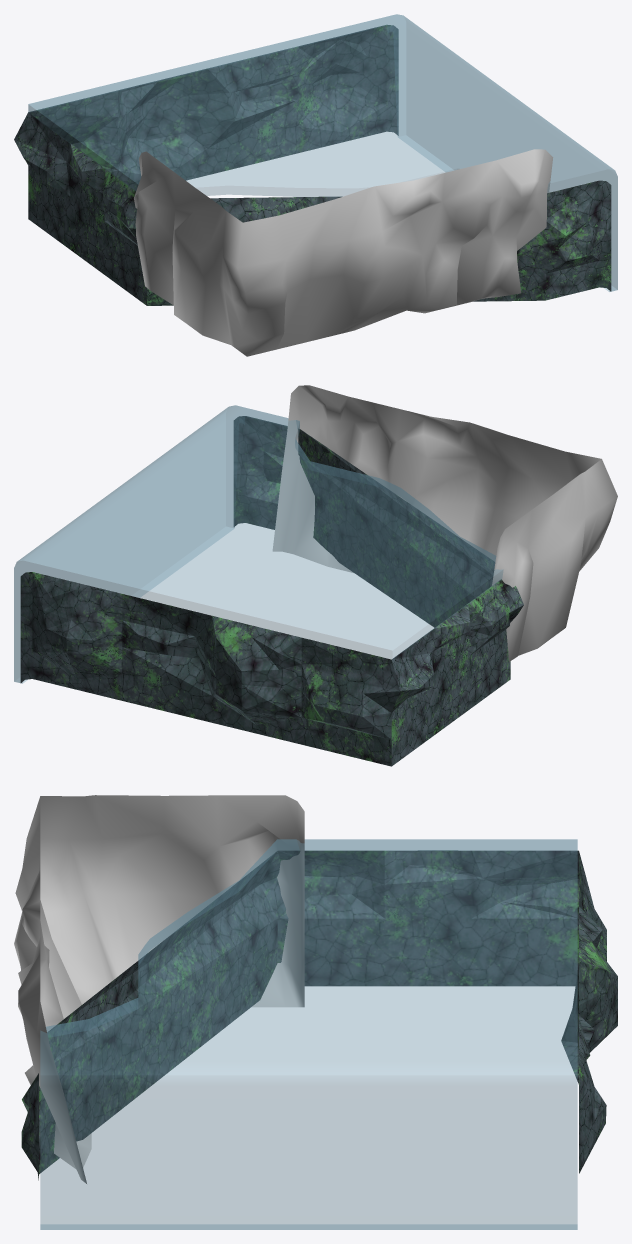
Rendered from stage_underground02.fbx.
3 views of the same model, one above another, from view 1: azimuth 30°, elevation 25°; view 2: azimuth 150°, elevation 25°; view 3: azimuth 270°, elevation 25° (orthographic). The views are drawn at different scales.
Visible parts, largest first — view 1: stage02_underground01, stage02_underground02, stage02_underground03; view 2: stage02_underground02, stage02_underground01, stage02_underground03; view 3: stage02_underground01, stage02_underground02, stage02_underground03.
Boxes of the visible parts, box(x1,y1,x2,y2) form: stage02_underground01: box(28, 14, 617, 291); stage02_underground02: box(14, 25, 611, 305); stage02_underground03: box(134, 149, 553, 356); stage02_underground02: box(20, 416, 523, 766); stage02_underground01: box(14, 405, 503, 683); stage02_underground03: box(272, 385, 617, 661); stage02_underground01: box(40, 839, 577, 1229); stage02_underground02: box(21, 850, 617, 1180); stage02_underground03: box(14, 795, 304, 1183).
Size of the model in its own units: 18.4 by 7.27 by 19.24.
